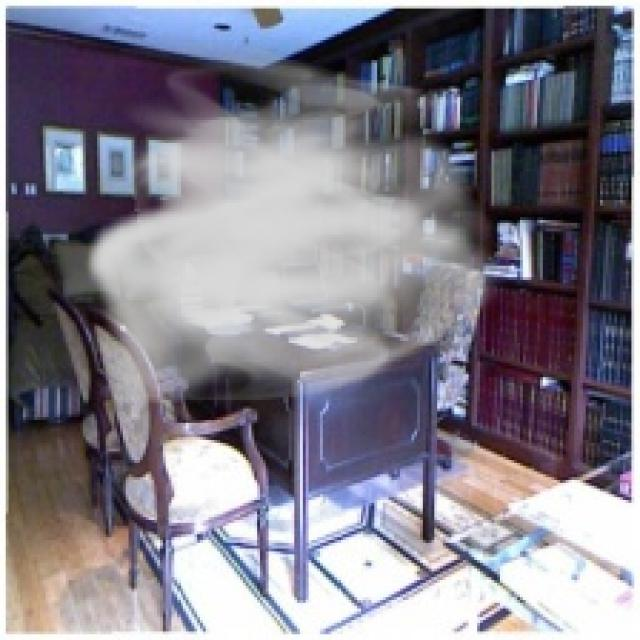smoke: (83, 37, 508, 414)
